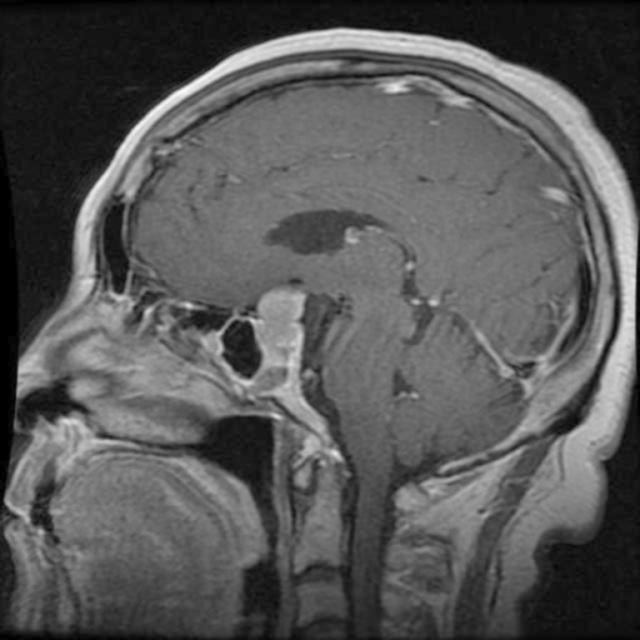no tumor: (260, 282, 308, 362)
